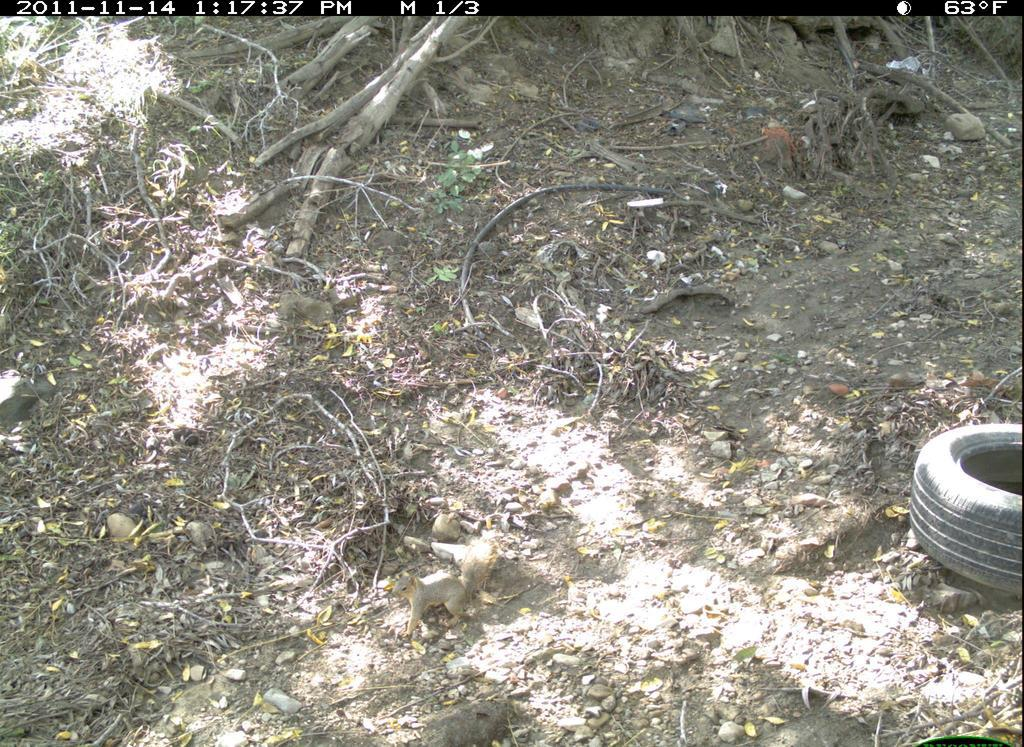squirrel: (390, 534, 505, 648)
